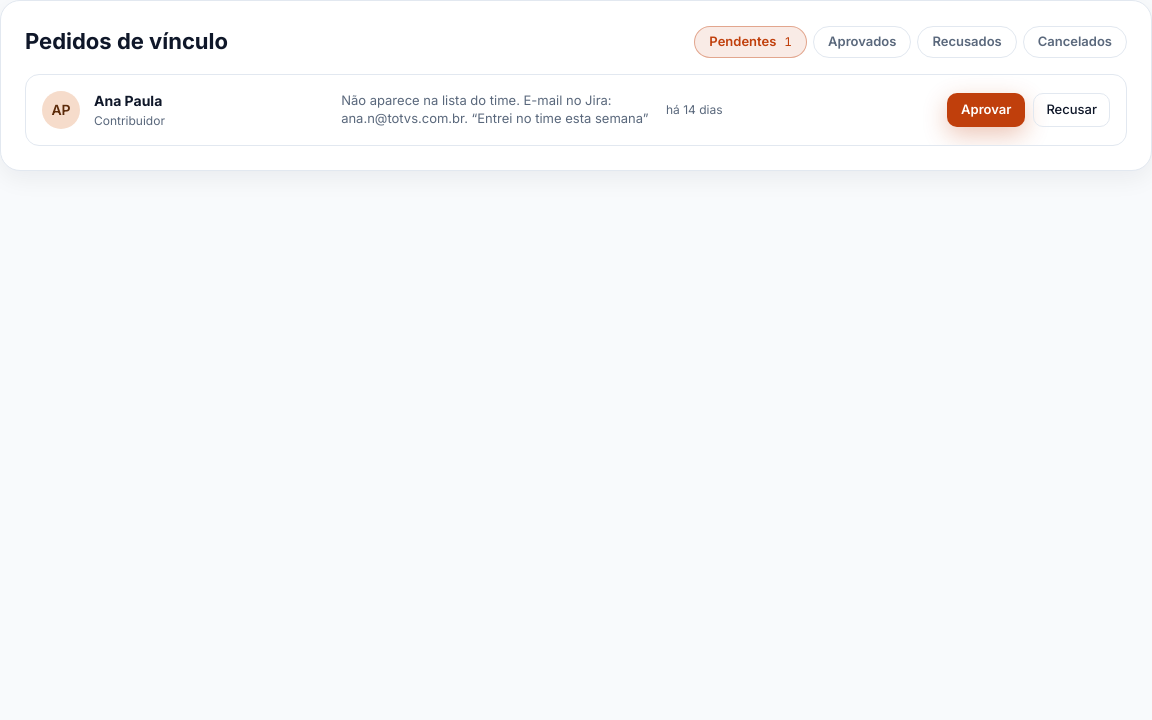
Test case: SquadRequestsPanel: decidir › pedido antigo sem linha e sem papel: Aprovar está disponível e abre o seletor da linha
Click the button "Aprovar": [986, 110] box [947,93,1025,127]
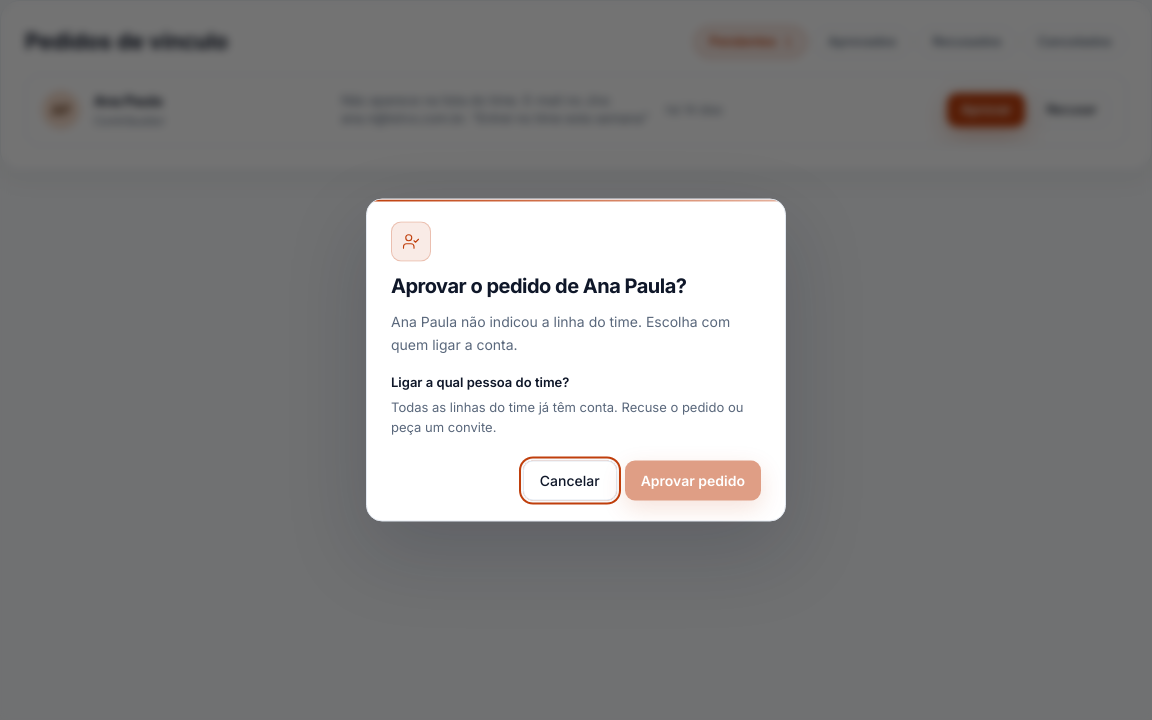
Check: the text "Todas as linhas do time já têm conta. Recuse o pedido ou peça um convite." is shown, box [391,398,761,436]
Check: the button "Aprovar pedido" is disabled, box [625,460,761,500]
